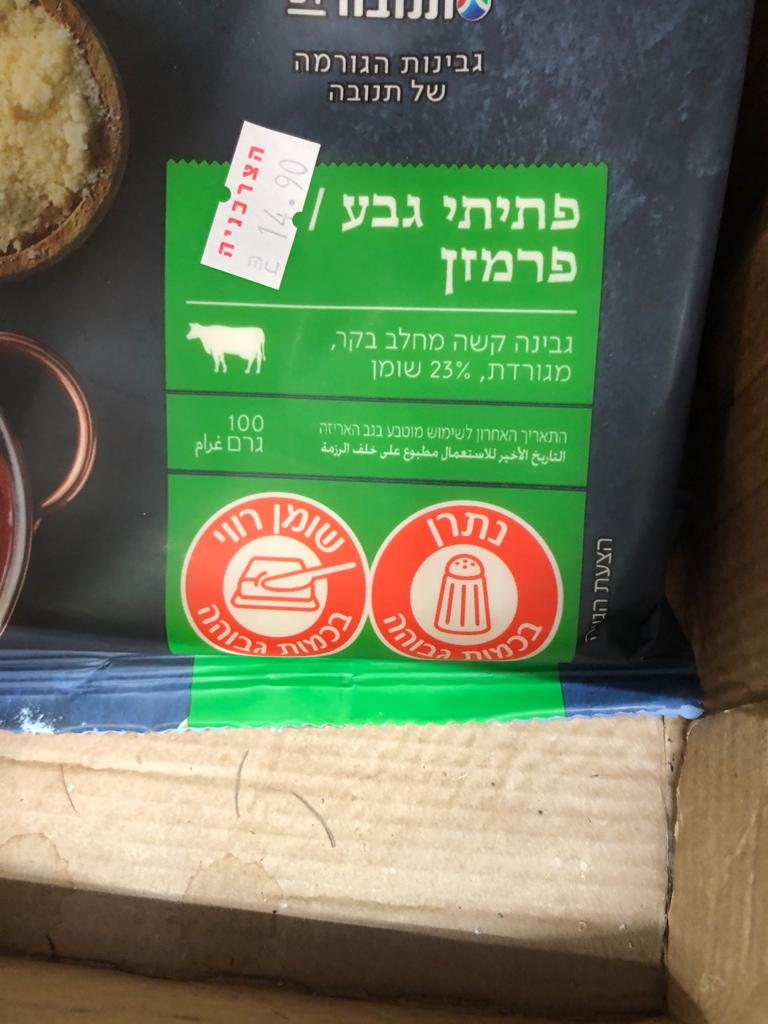fat: (177, 492, 371, 667)
salt: (364, 501, 565, 664)
